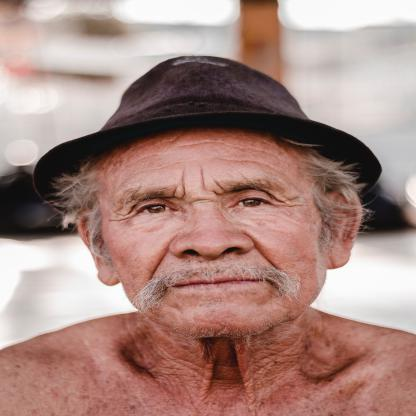Eye: (226, 192, 277, 211), (134, 202, 179, 216)
Mouth: (167, 275, 273, 292)
Nose: (169, 213, 253, 259)
